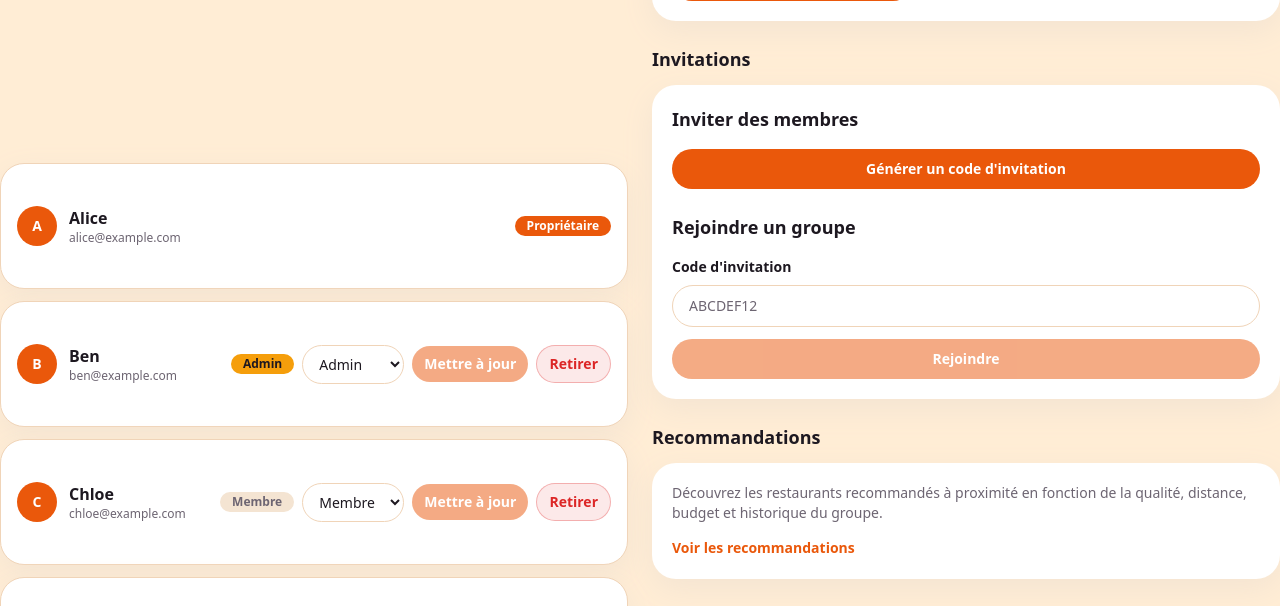
Test: GroupDetailPage › shows join error for invalid code (404)
The width and height of the screenshot is (1280, 606).
(page scrolled)
Expected: the heading "Invitations" is shown, [652,47,750,71]
Type "ABC12345" into the field labelled "Code d'invitation" at (966, 306), box [672,285,1260,327]
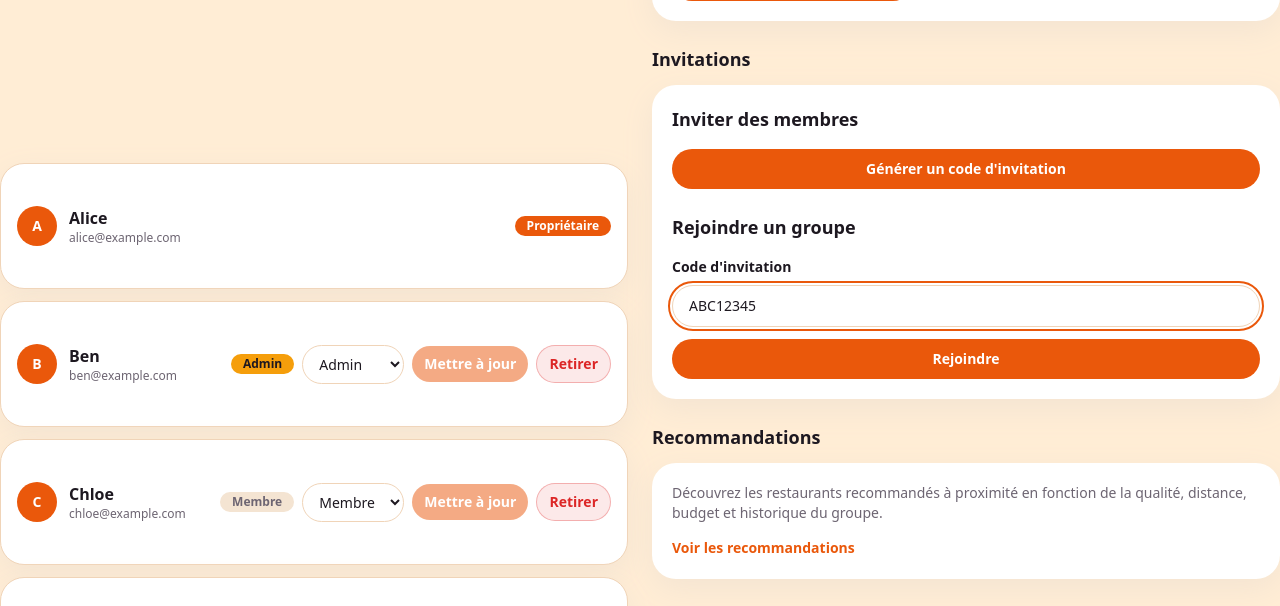
Click the button "Rejoindre" at (966, 359), box [672,339,1260,379]
(page scrolled)
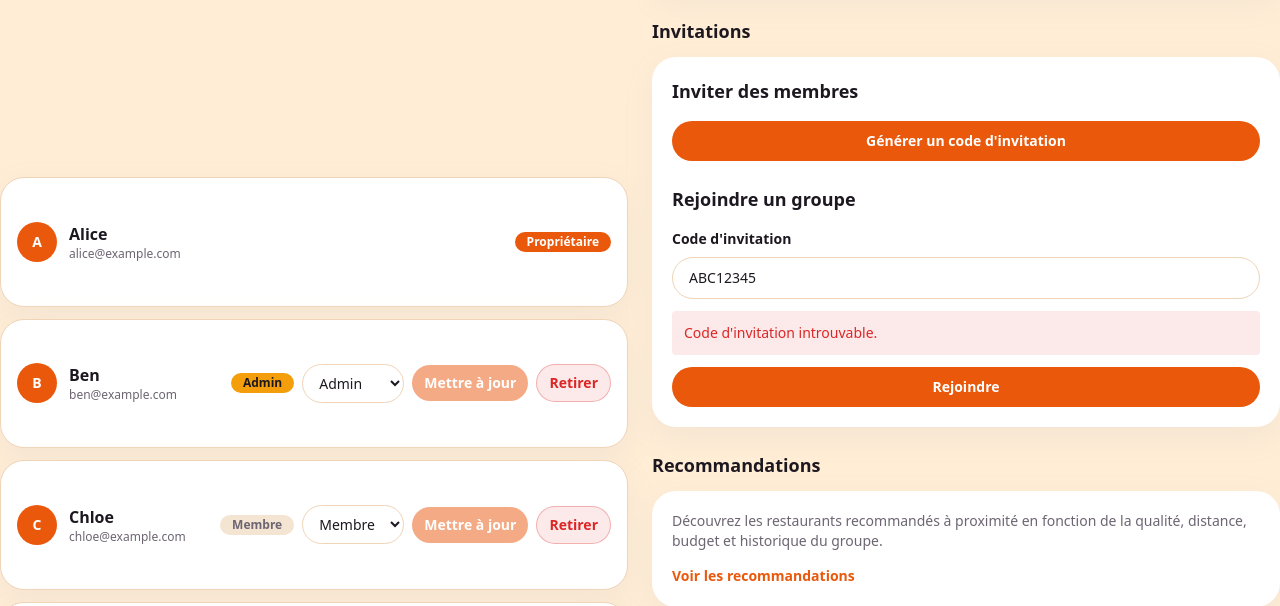
Now the message shows "introuvable", box [684,323,877,342]
